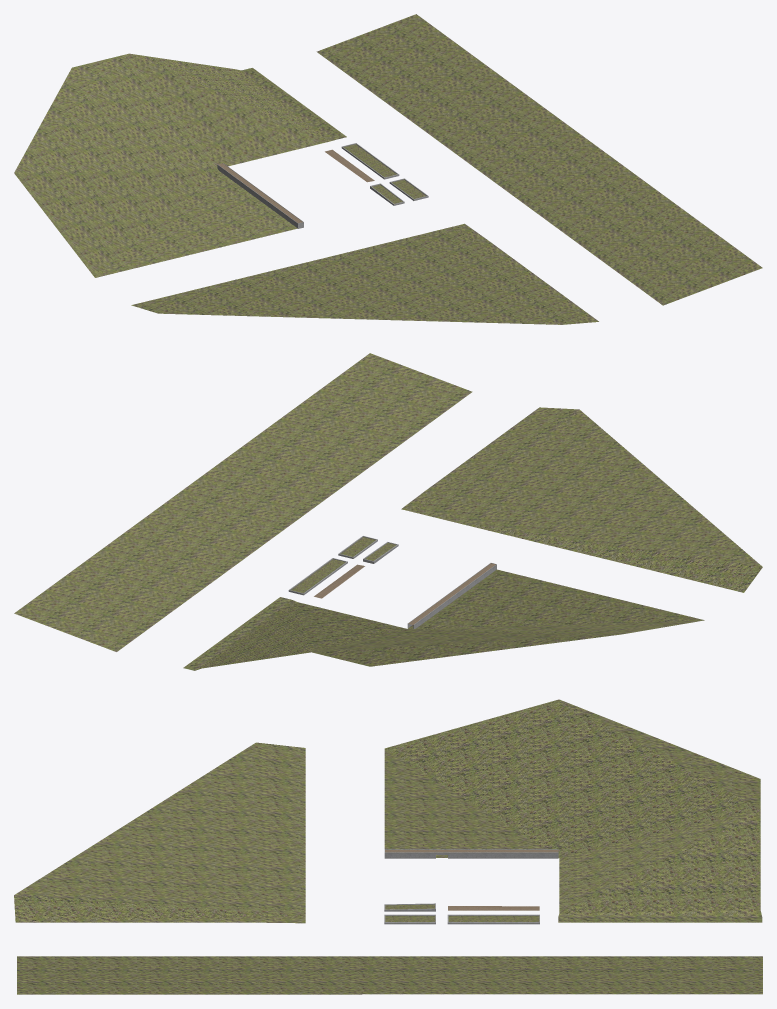
File: Grass_ (1).fbx
The picture shows the model from 3 angles, top to bottom: view 1: azimuth 30°, elevation 25°; view 2: azimuth 150°, elevation 25°; view 3: azimuth 270°, elevation 25°; orthographic projection. The views are drawn at different scales.
Parts seen in each view (by area): view 1: Grass___1_; view 2: Grass___1_; view 3: Grass___1_.
Part boxes in pixels (box(x1,y1,x2,y2)): Grass___1_: box(14, 14, 762, 324); Grass___1_: box(14, 353, 762, 670); Grass___1_: box(14, 699, 762, 994).
Size of the model in its own units: 12091 by 1077 by 14634.
3 materials, 3 textured.
